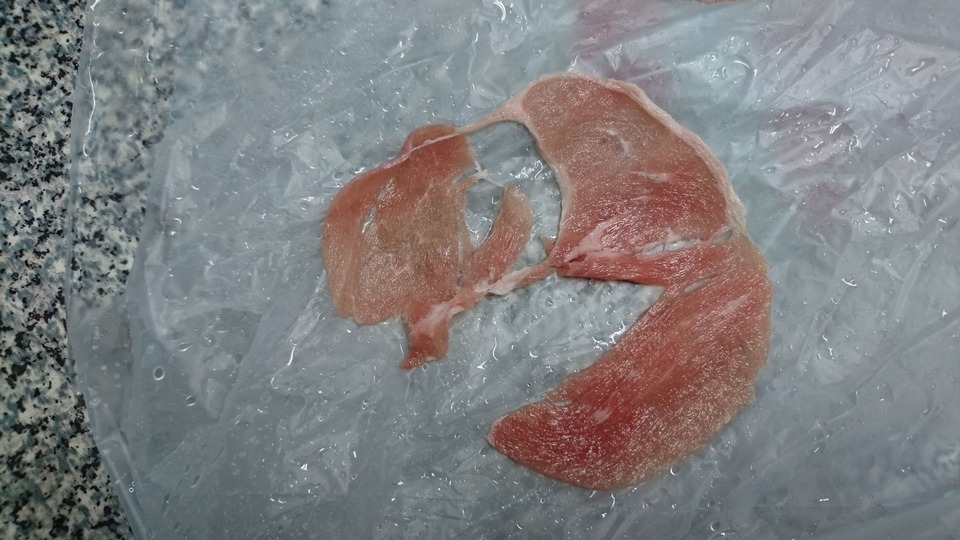restructured meat: (317, 89, 800, 509)
